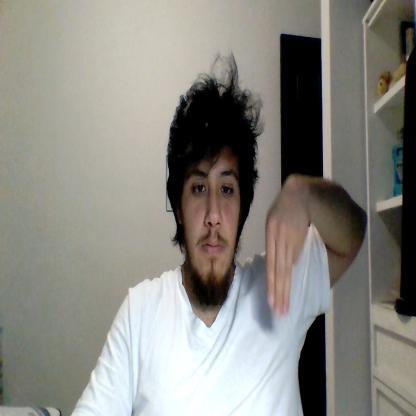M: (265, 173, 308, 319)
